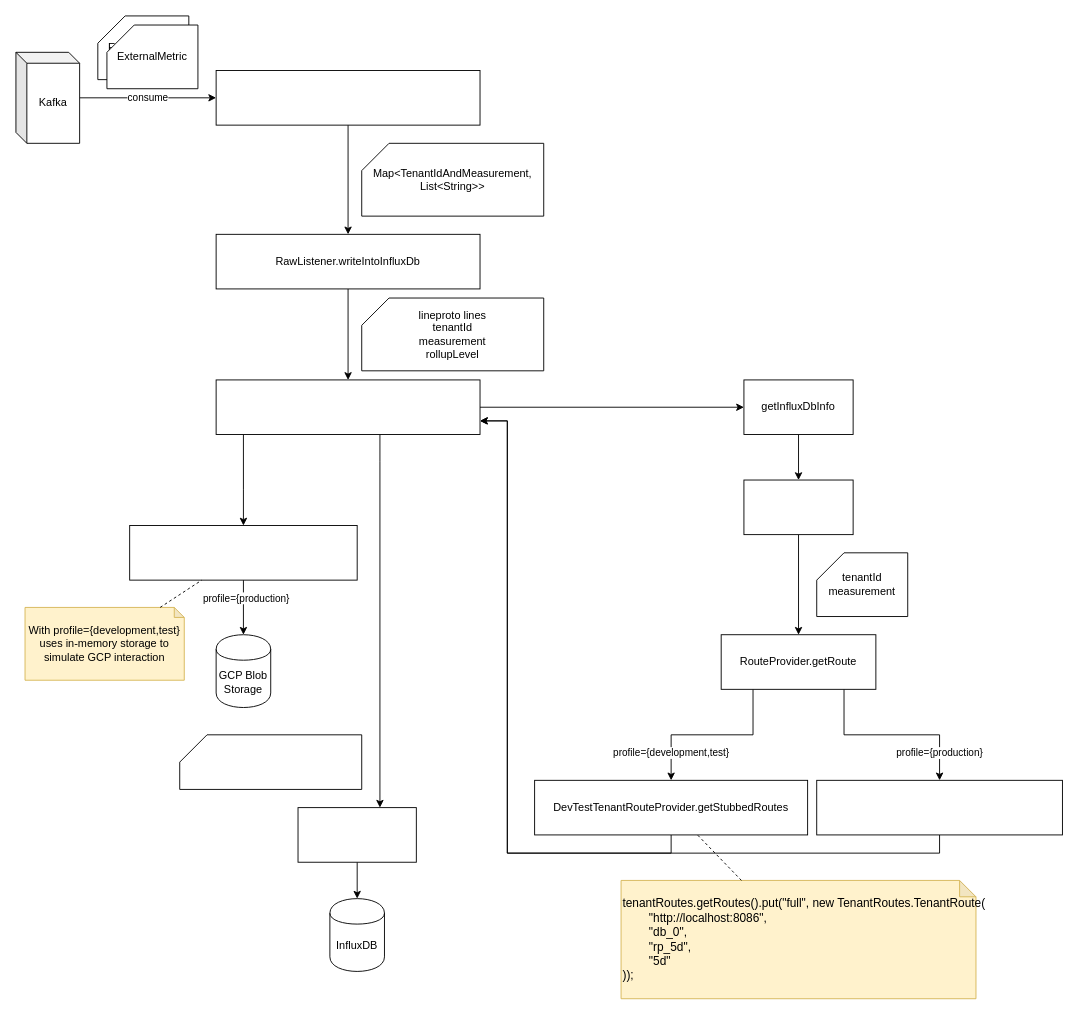
This 1078x1015 diagram has some shape labels left out. The box of each missing label's shape, as (x1, y1, x2, y2) in pixels:
databaseName retention policy lineproto lines: (179, 734, 362, 789)
GCLineProtocolBackupService.writeToBackup: (129, 525, 357, 580)
GET {tenantRoutingService}/{tenant}/{measurement}: (816, 779, 1062, 835)
getTenantRoutes: (743, 479, 853, 535)
InfluxDB#write: (297, 807, 416, 862)
InfluxDBHelper.ingestToInfluxDb: (215, 379, 480, 435)
RawListener.listenUnifiedMetricsTopic: (215, 70, 480, 125)
